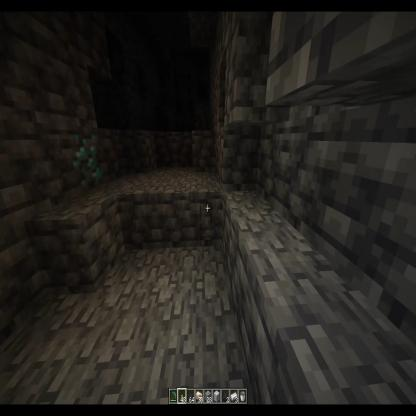diamond ore: (69, 128, 107, 194)
